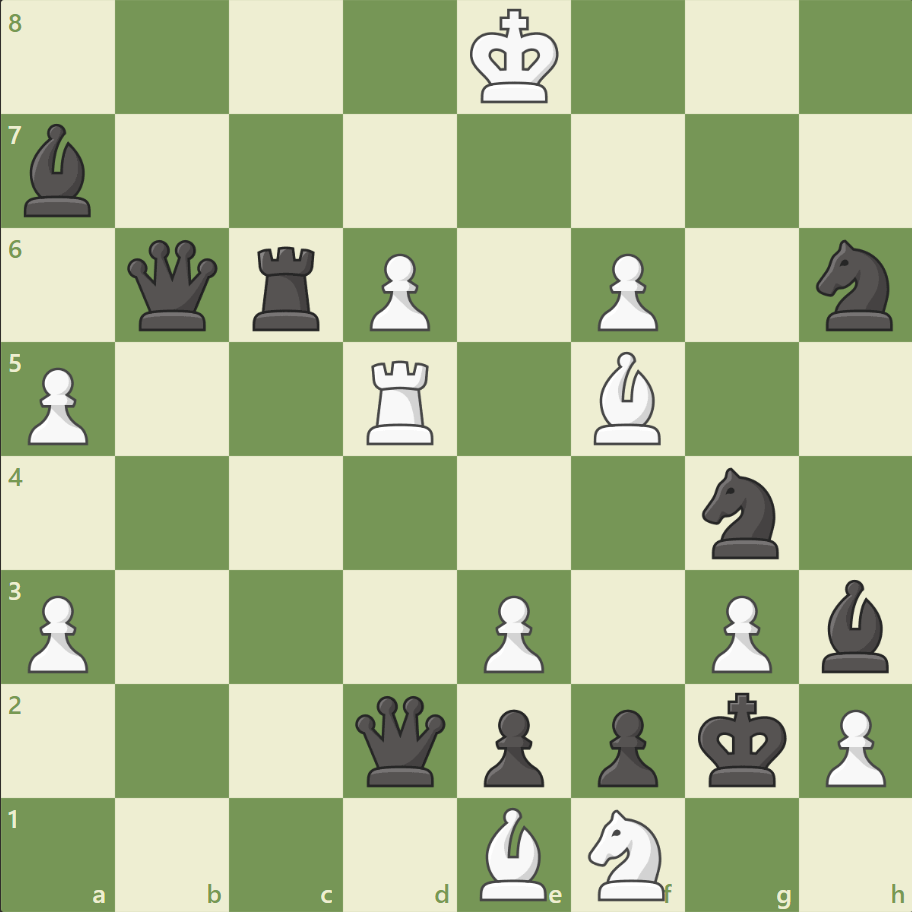B: (471, 801, 555, 904), (585, 347, 669, 449)
K: (465, 4, 565, 112)
N: (579, 802, 676, 904)
P: (20, 359, 95, 450), (20, 586, 95, 677), (474, 586, 549, 677), (701, 586, 776, 677), (361, 246, 435, 337), (588, 246, 662, 337), (815, 700, 889, 791)
R: (360, 352, 442, 449)
b: (17, 120, 101, 222), (812, 574, 896, 676)
k: (692, 685, 792, 793)
n: (806, 234, 903, 337), (692, 461, 789, 564)
p: (474, 700, 549, 791), (588, 700, 662, 791)
q: (124, 236, 223, 335), (351, 690, 450, 789)
r: (246, 239, 329, 336)
